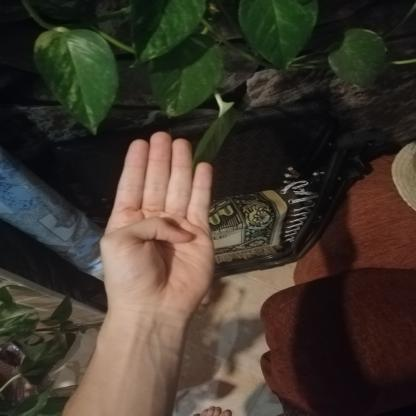KAAF: (77, 123, 241, 334)
